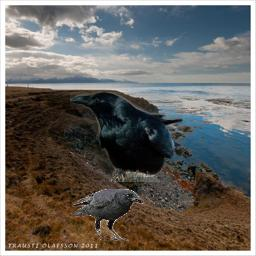Crow: (70, 92, 183, 182), (69, 189, 144, 241)
